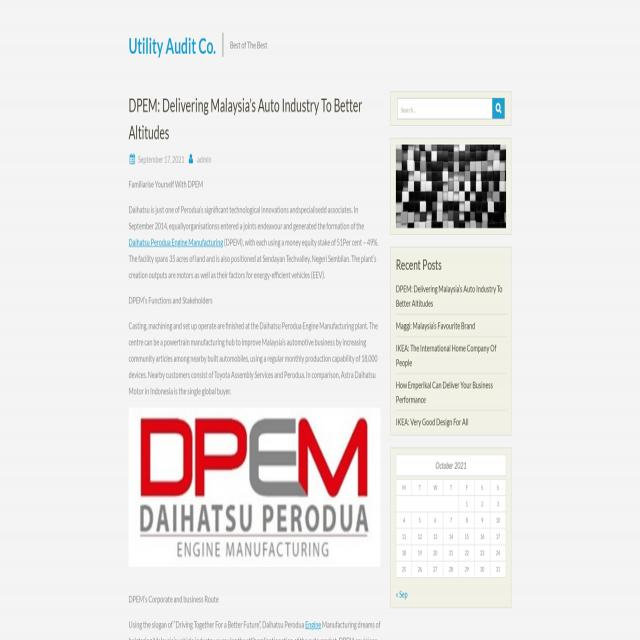button: (128, 411, 380, 564), (396, 145, 506, 228), (492, 98, 505, 119)
field: (397, 98, 505, 119)
